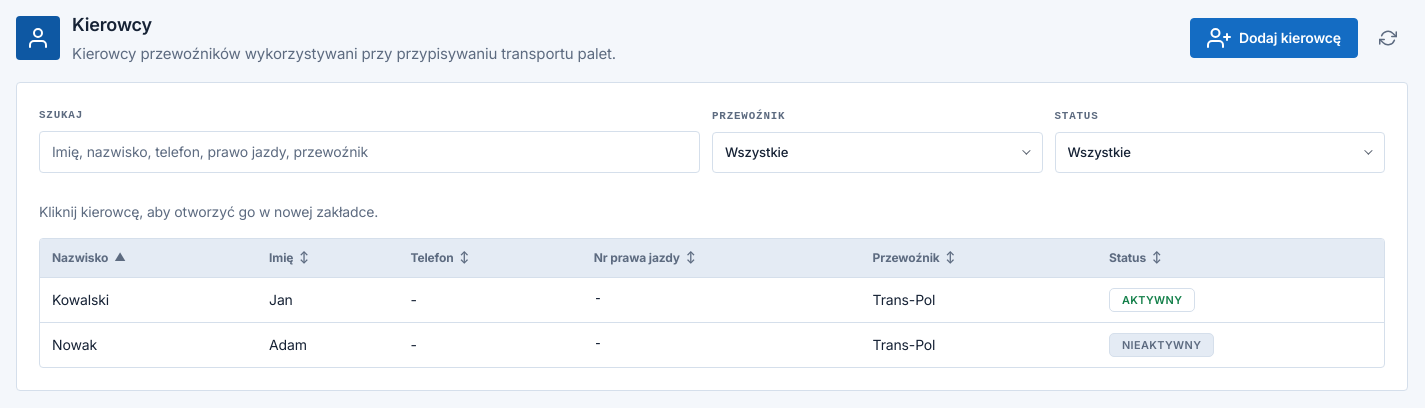
it: DriverList › filters drivers by status
Expected: the text "Kowalski" is shown, [40, 277, 257, 322]
Replace the text in the dropdown named "Status" with "INACTIVE" at x=1099, y=152, box [1056, 132, 1384, 172]
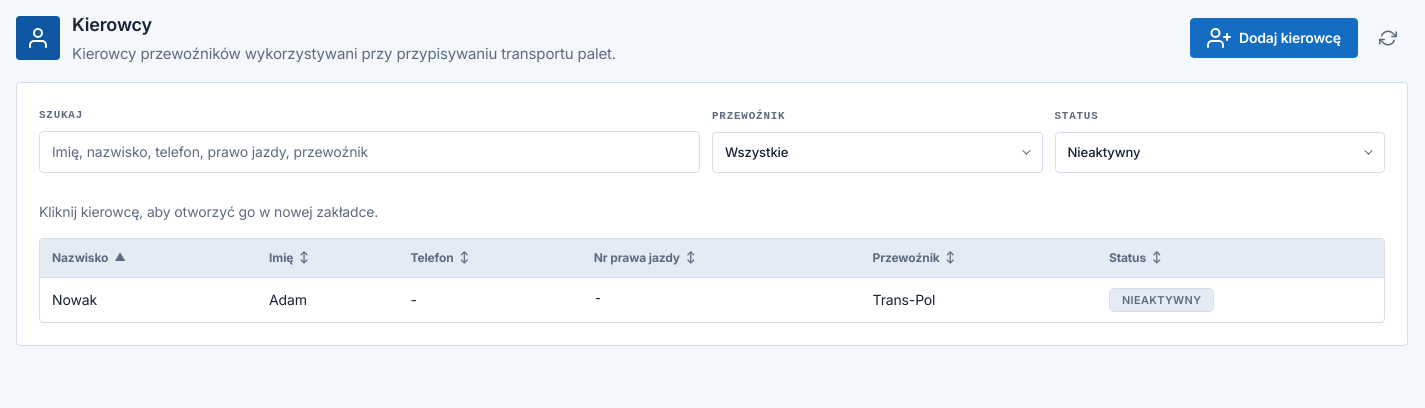
Expected: the text "Nowak" is shown, [40, 277, 257, 322]
Now the text "Kowalski" is gone
